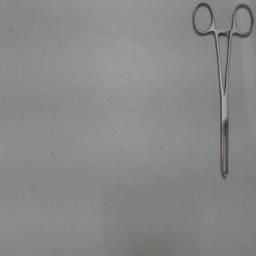Allis Tissue Forceps: (188, 0, 256, 186)
